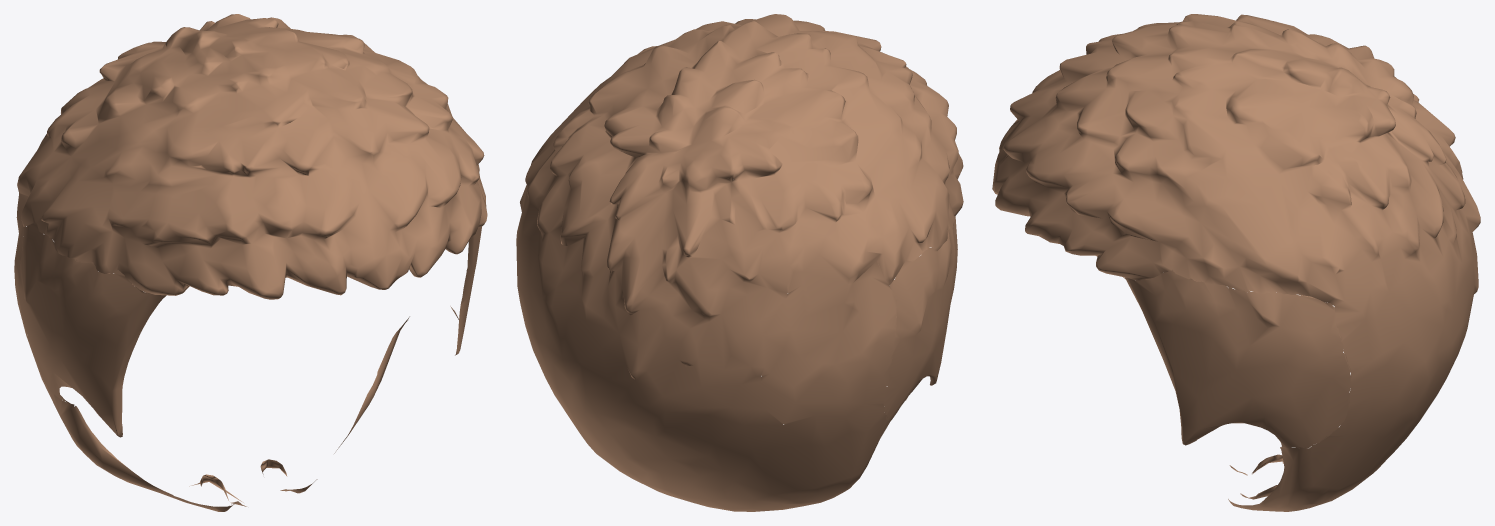
Rendered from hair_02.glb.
The picture shows the model from 3 angles, left to right: view 1: azimuth 30°, elevation 25°; view 2: azimuth 150°, elevation 25°; view 3: azimuth 270°, elevation 25°; orthographic projection. The views are drawn at different scales.
Visible parts, largest first — view 1: hair; view 2: hair; view 3: hair.
Boxes of the visible parts, left/top/right/bottom form: hair: left=14, top=14, right=487, bottom=511; hair: left=516, top=14, right=963, bottom=511; hair: left=992, top=14, right=1480, bottom=511.
Bounding box in the file's own units: 0.4259 × 0.4597 × 0.4444.
